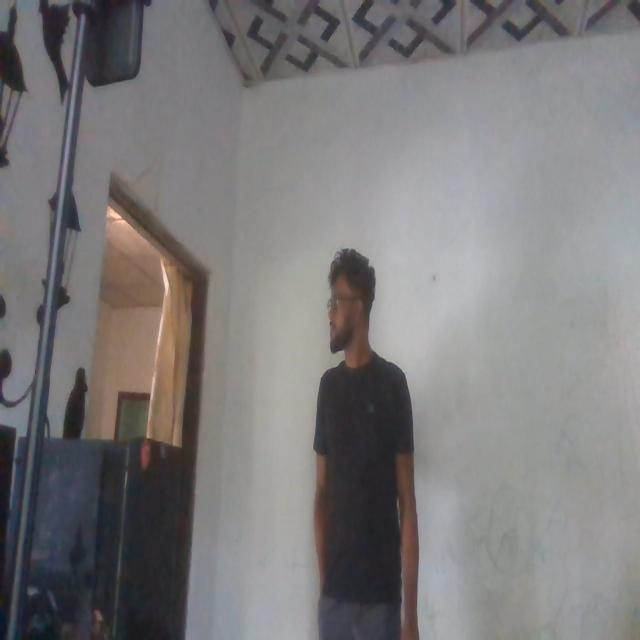Person: (307, 242, 421, 637)
